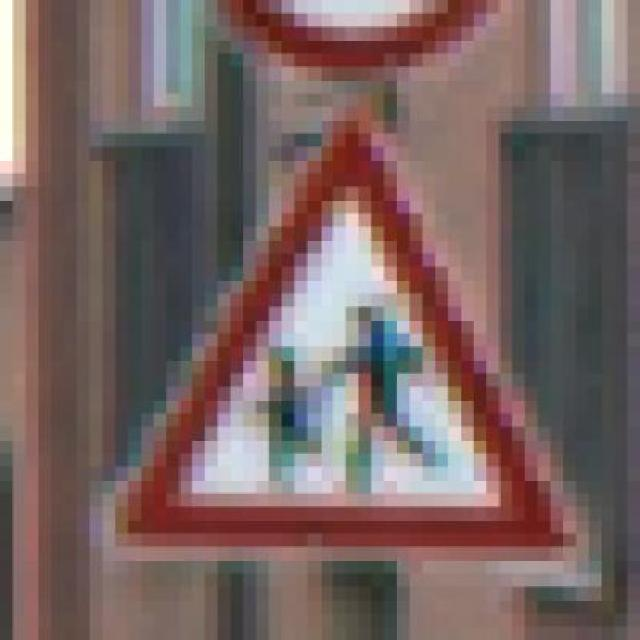Beware of children: (77, 93, 589, 561)
